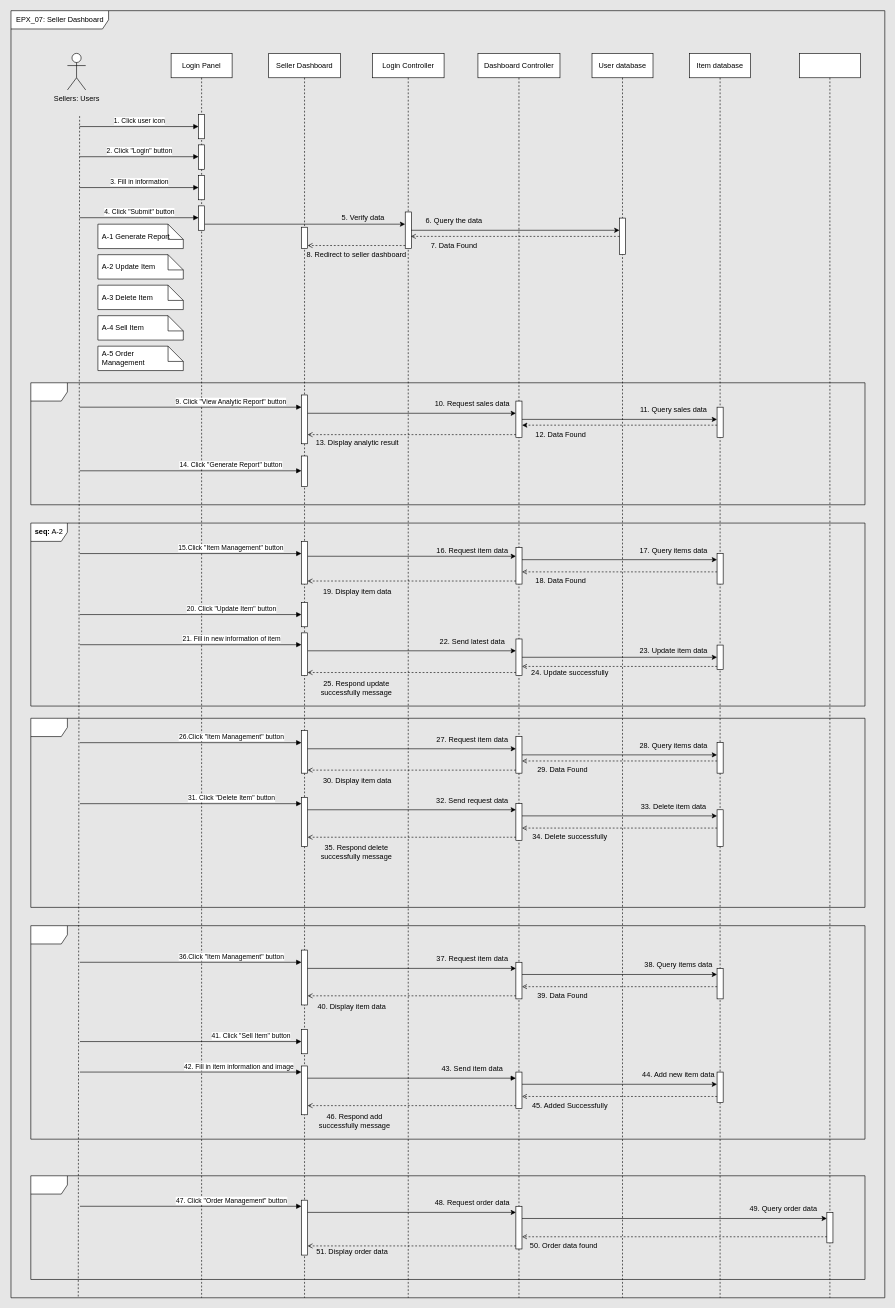
This 895x1308 diagram has some shape labels left out. Each missing label, with the box of its shape:
Order database: (799, 53, 860, 1298)
seq: A-1: (30, 382, 865, 505)
seq: A-3: (30, 718, 865, 907)
seq: A-4: (30, 925, 865, 1139)
seq: A-5: (30, 1175, 865, 1279)
